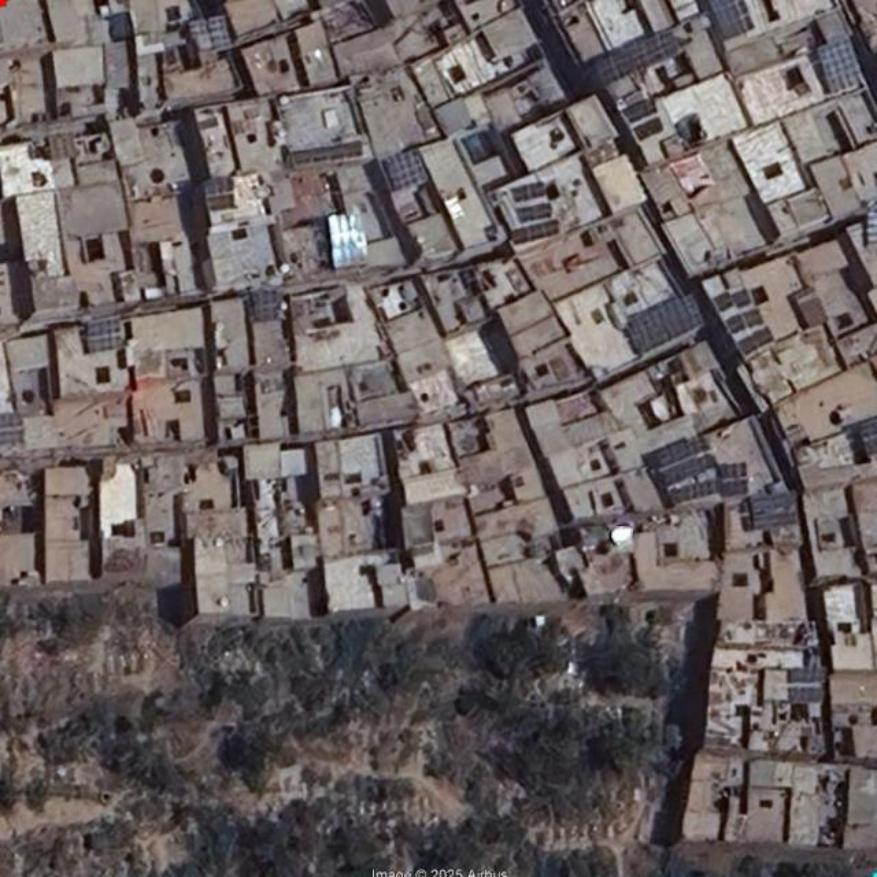Solarpanel: (590, 27, 676, 89), (625, 290, 705, 350), (819, 41, 867, 94), (653, 435, 712, 467), (662, 452, 716, 486), (189, 15, 236, 54), (707, 0, 756, 37), (292, 139, 362, 164), (751, 494, 801, 528), (381, 153, 423, 190), (84, 320, 125, 351), (670, 481, 723, 504), (521, 216, 560, 239), (250, 292, 279, 322), (0, 413, 26, 443), (517, 200, 550, 219), (512, 181, 543, 201), (862, 415, 876, 457), (718, 461, 746, 480), (788, 688, 822, 703), (721, 480, 749, 498), (792, 671, 828, 682)
